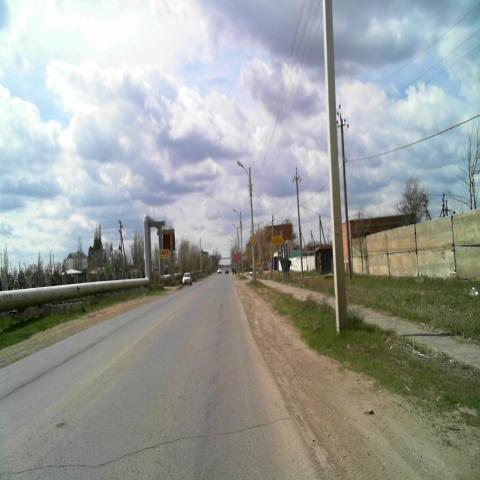2_1: (250, 234, 257, 248)
